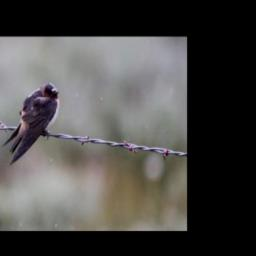Swallow: (1, 81, 61, 166)
